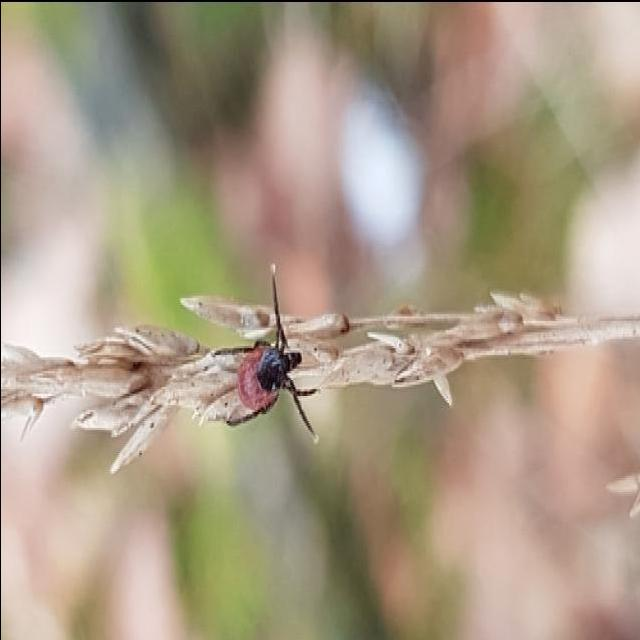Ixodes Ricinus-F: (211, 262, 319, 442)
